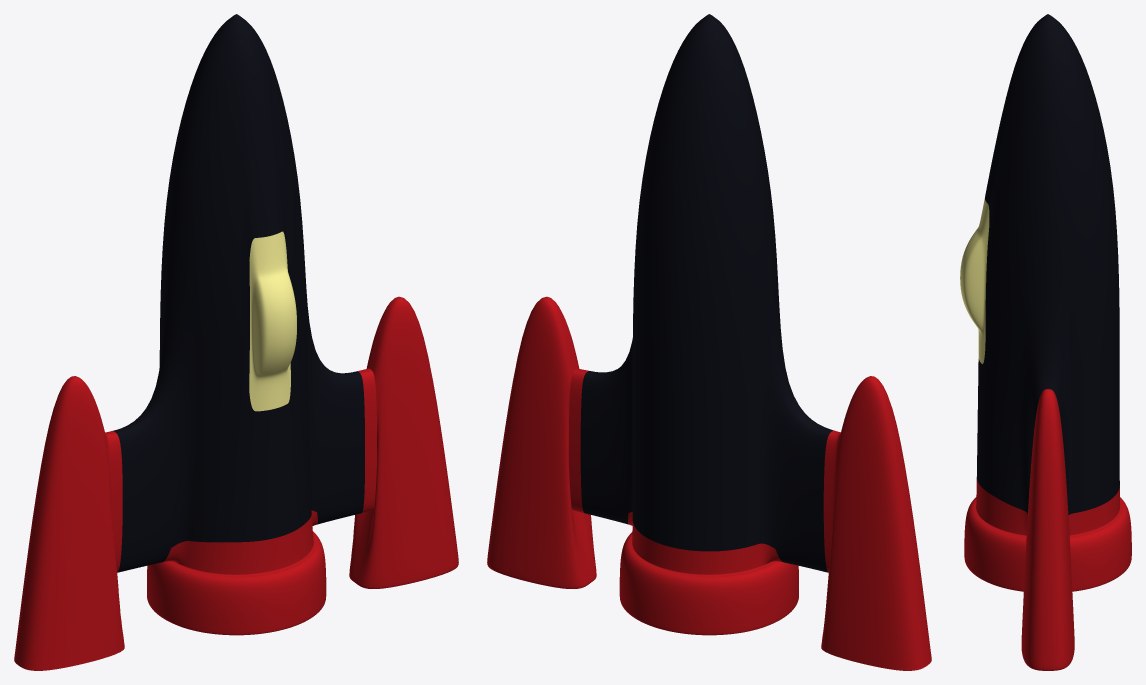
Rendered from Rocket.fbx.
The picture shows the model from 3 angles, left to right: view 1: azimuth 30°, elevation 25°; view 2: azimuth 150°, elevation 25°; view 3: azimuth 270°, elevation 25°; orthographic projection. The views are drawn at different scales.
Parts seen in each view (by area): view 1: RocketShip; view 2: RocketShip; view 3: RocketShip.
Part boxes in pixels (box(x1,y1,x2,y2)): RocketShip: box(14, 14, 458, 670); RocketShip: box(487, 14, 931, 670); RocketShip: box(960, 14, 1131, 670).
Size of the model in its own units: 0.9756 by 1.28 by 0.3569.
